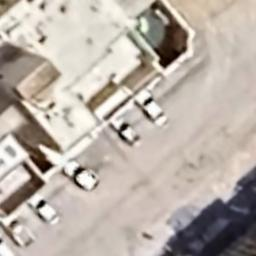SUV: (60, 157, 101, 194), (0, 212, 37, 249)
sedan: (132, 86, 170, 128), (25, 190, 61, 228), (106, 115, 142, 149)
